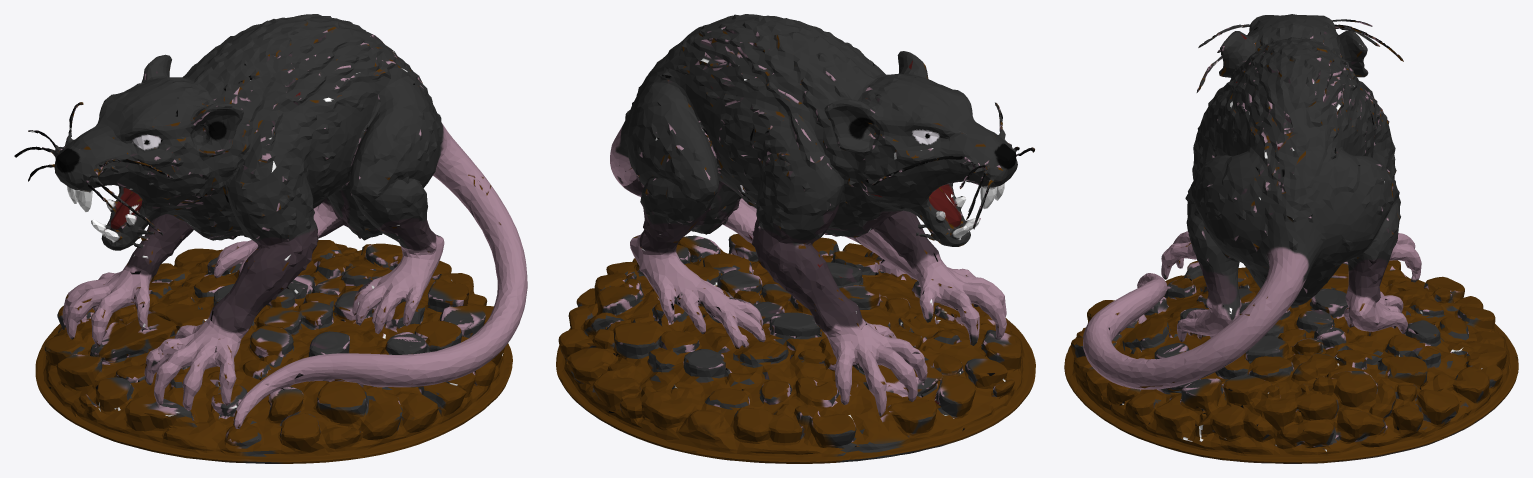
File: rato_gicante.glb
3 views of the same model, side by side, from view 1: azimuth 30°, elevation 25°; view 2: azimuth 150°, elevation 25°; view 3: azimuth 270°, elevation 25° (orthographic). The views are drawn at different scales.
Parts seen in each view (by area): view 1: tmphn2a66tr.ply; view 2: tmphn2a66tr.ply; view 3: tmphn2a66tr.ply.
Part boxes in pixels (x1=…): tmphn2a66tr.ply: x1=14, y1=14, x2=527, y2=463; tmphn2a66tr.ply: x1=556, y1=14, x2=1035, y2=463; tmphn2a66tr.ply: x1=1064, y1=14, x2=1518, y2=463.
Bounding box in the file's own units: 1.96 × 1.5 × 1.9.
1 material, 1 textured.
